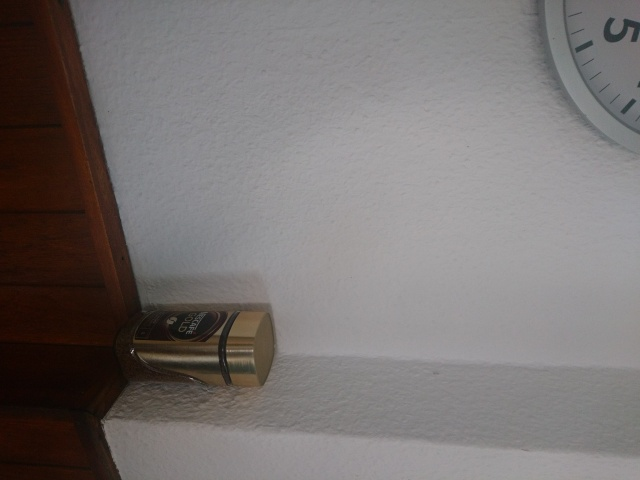Nescafe Gold 225g: (108, 307, 278, 392)
